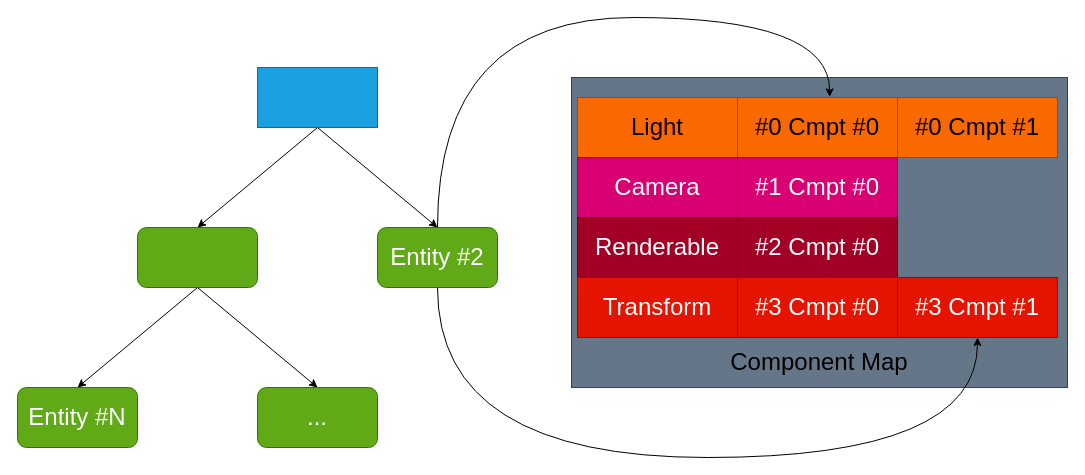
Image size: 1085x475. Some labels were removed from this diagram. The box of each missing label's shape, as (x1, y1, x2, y2) in pixels:
Entity #1: (136, 226, 258, 288)
Scene: (256, 66, 378, 128)
